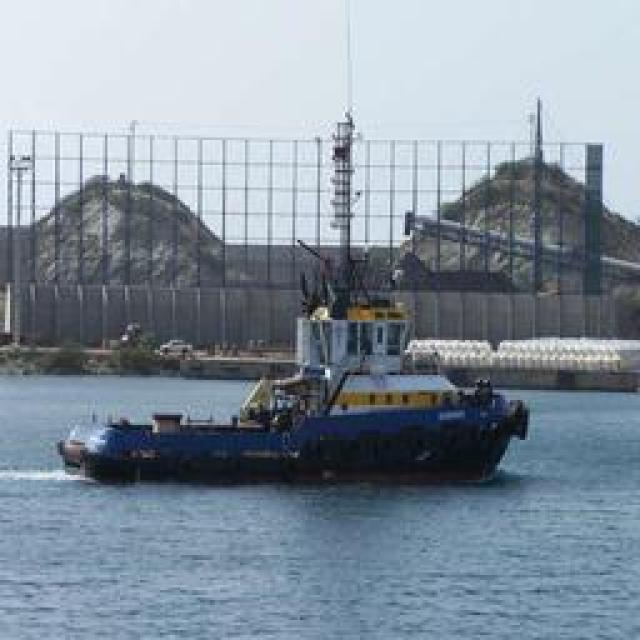ship2: (55, 108, 529, 484)
